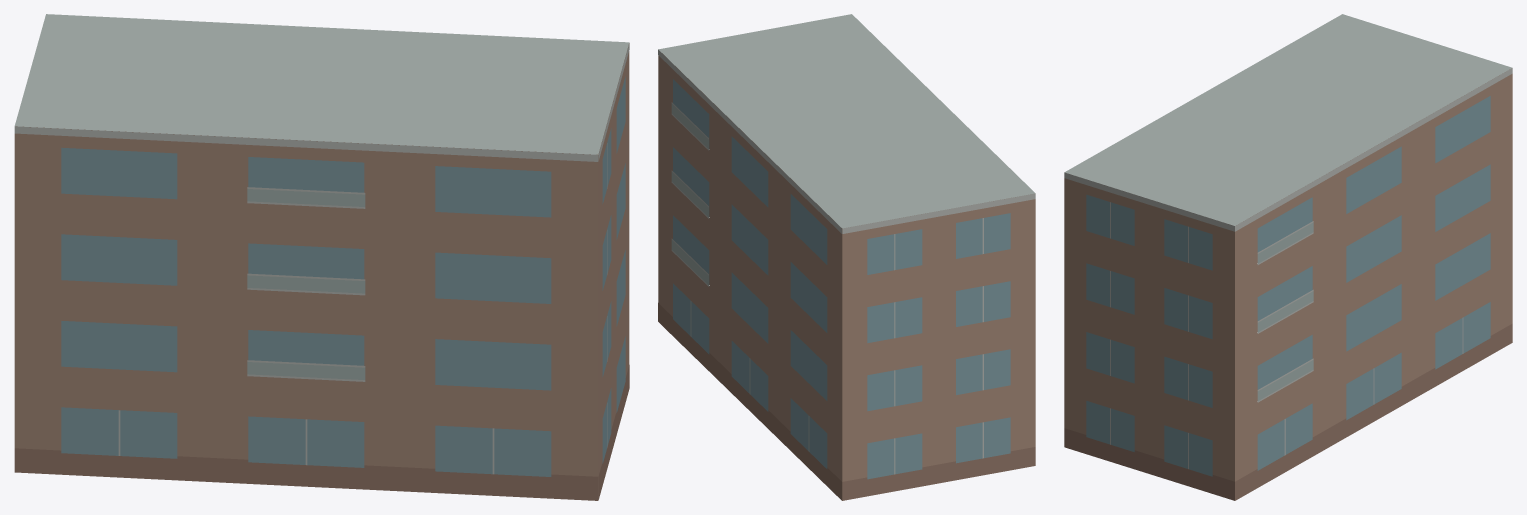
File: survey-upis-33025131.glb
The picture shows the model from 3 angles, left to right: view 1: azimuth 30°, elevation 25°; view 2: azimuth 150°, elevation 25°; view 3: azimuth 270°, elevation 25°; orthographic projection. The views are drawn at different scales.
Visible parts, largest first — view 1: survey-upis-33025131.tmp; view 2: survey-upis-33025131.tmp; view 3: survey-upis-33025131.tmp.
Part boxes in pixels (bbox=[...]): survey-upis-33025131.tmp: bbox=[14, 14, 629, 500]; survey-upis-33025131.tmp: bbox=[658, 14, 1035, 500]; survey-upis-33025131.tmp: bbox=[1064, 14, 1512, 500].
Size of the model in its own units: 19.37 by 11.7 by 17.31.
